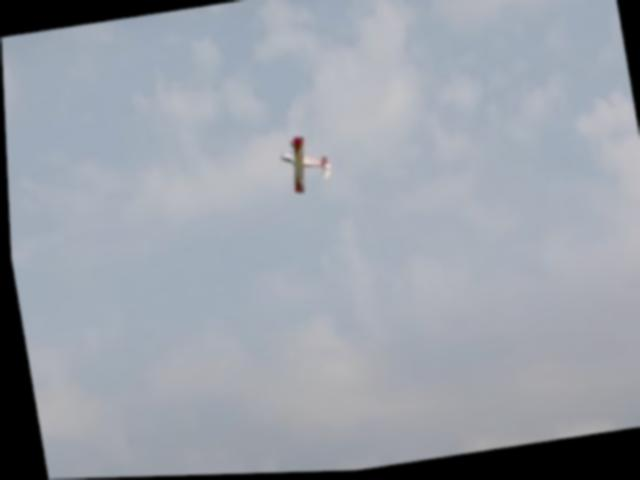uav: (270, 126, 338, 206)
